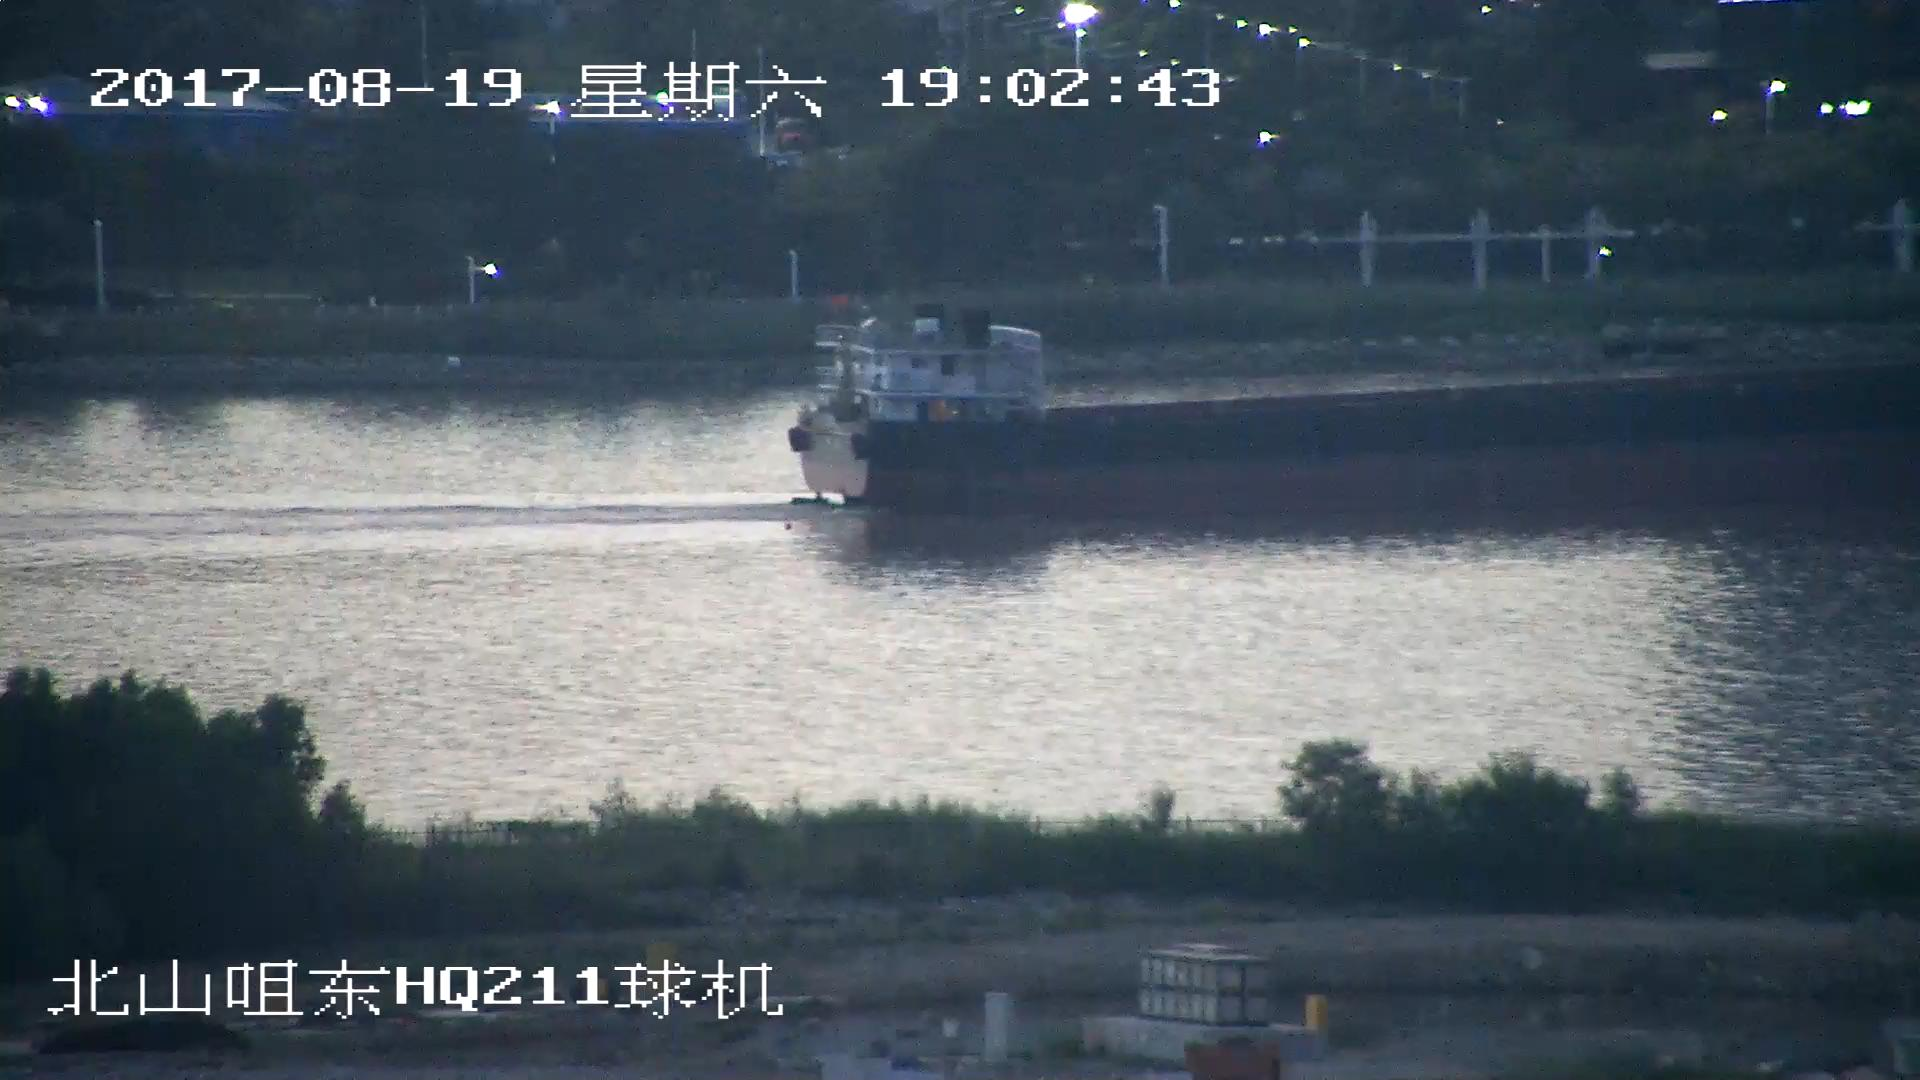general cargo ship: (798, 307, 1920, 510)
